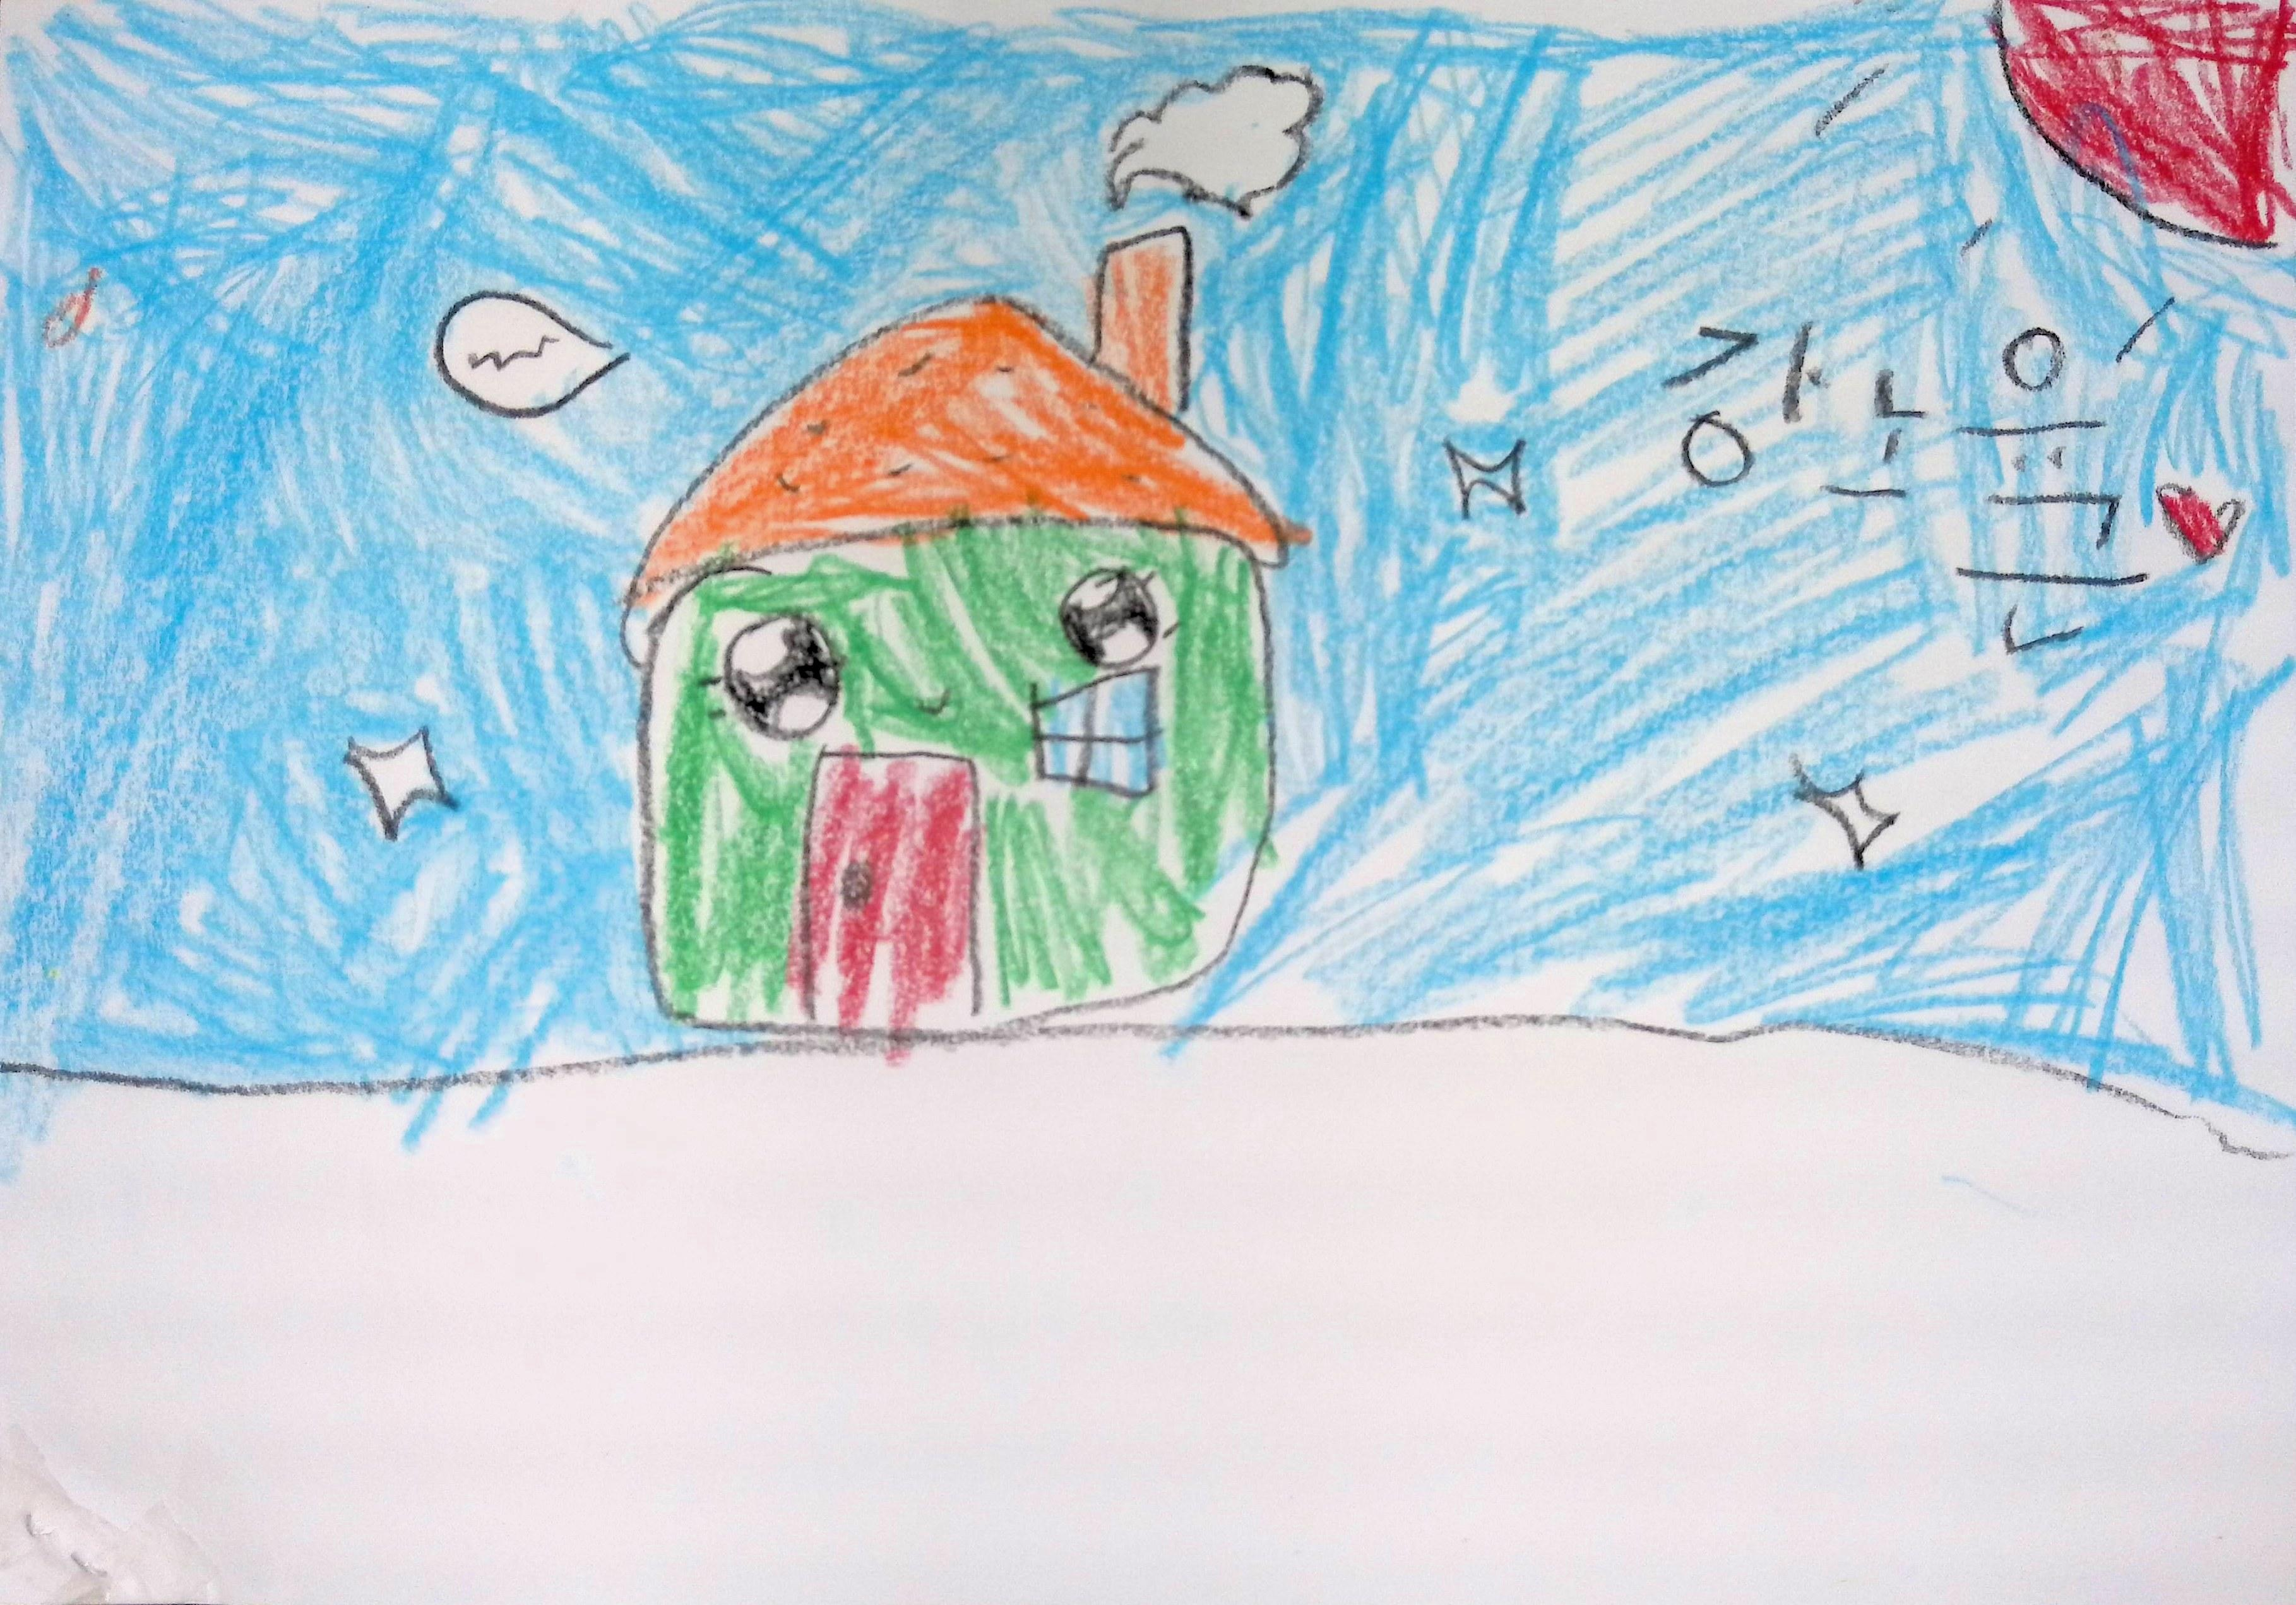chimney: (1089, 230, 1192, 427)
door: (806, 743, 984, 1035)
house: (623, 225, 1307, 1035)
roof: (619, 298, 1295, 673)
wall: (642, 518, 1272, 1038)
window: (1033, 663, 1162, 801)
